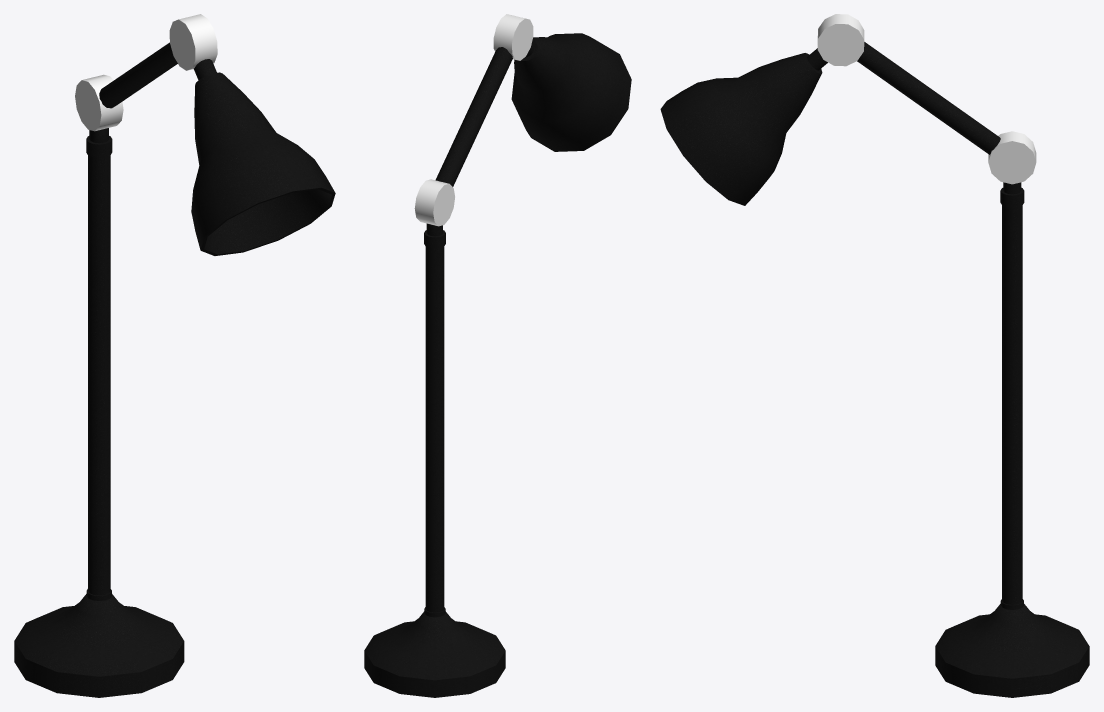
Rendered from black_desk_lamp.glb.
3 renders of one model, left to right at view 1: azimuth 30°, elevation 25°; view 2: azimuth 150°, elevation 25°; view 3: azimuth 270°, elevation 25°, orthographic. The views are drawn at different scales.
Parts seen in each view (by area): view 1: black_desk_lamp; view 2: black_desk_lamp; view 3: black_desk_lamp.
Part boxes in pixels (x1=…): black_desk_lamp: x1=14, y1=14, x2=335, y2=697; black_desk_lamp: x1=364, y1=14, x2=631, y2=697; black_desk_lamp: x1=660, y1=14, x2=1089, y2=697.
Bounding box in the file's own units: 0.1122 × 0.5188 × 0.312.
2 materials, 2 textured.
